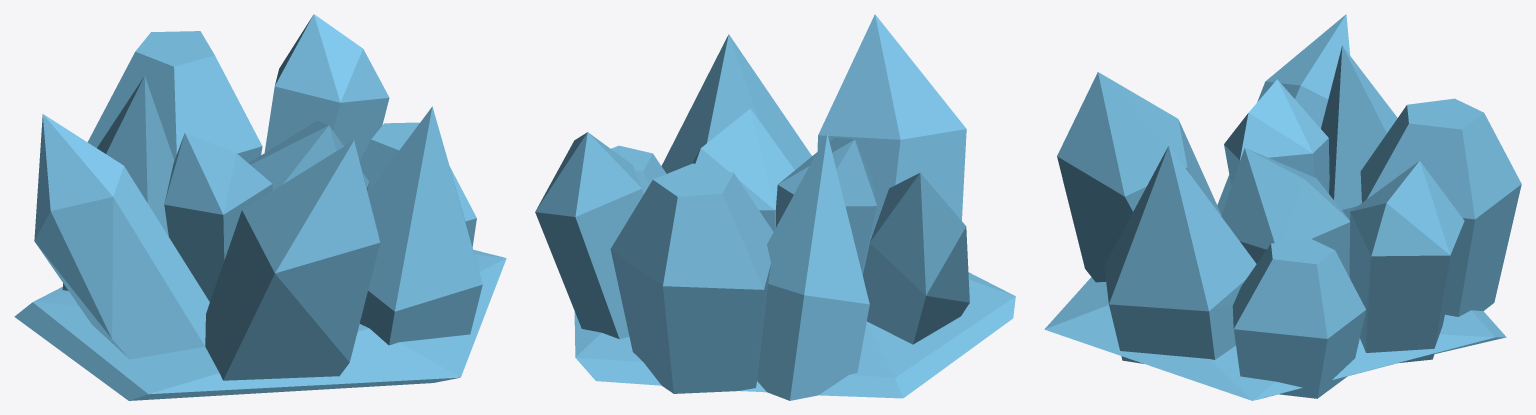
File: DiamondPileBag.fbx
3 renders of one model, left to right at view 1: azimuth 30°, elevation 25°; view 2: azimuth 150°, elevation 25°; view 3: azimuth 270°, elevation 25°, orthographic. The views are drawn at different scales.
Parts seen in each view (by area): view 1: DiamondPileBag; view 2: DiamondPileBag; view 3: DiamondPileBag.
Part boxes in pixels (x1,y1,x2,y2): DiamondPileBag: (14, 14, 506, 400); DiamondPileBag: (535, 14, 1015, 400); DiamondPileBag: (1044, 14, 1521, 400).
Size of the model in its own units: 34.01 by 18.33 by 34.4.
